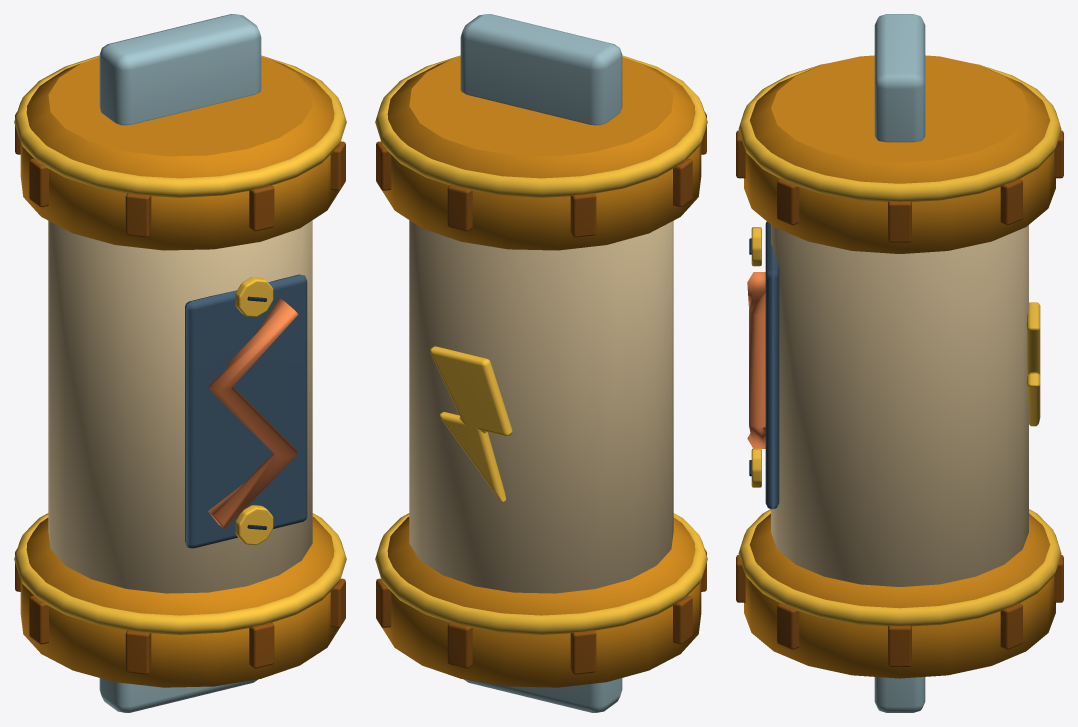
The model's file is core_fuse.glb.
The picture shows the model from 3 angles, left to right: view 1: azimuth 30°, elevation 25°; view 2: azimuth 150°, elevation 25°; view 3: azimuth 270°, elevation 25°; orthographic projection. The views are drawn at different scales.
Visible parts, largest first — view 1: core_fuse_runtime; view 2: core_fuse_runtime; view 3: core_fuse_runtime.
Boxes of the visible parts, box(x1,y1,x2,y2) form: core_fuse_runtime: box(14, 14, 346, 712); core_fuse_runtime: box(375, 14, 707, 712); core_fuse_runtime: box(736, 14, 1063, 712).
Bounding box in the file's own units: 0.6037 × 1.3 × 0.6037.
Materials: 1 (1 with a texture image).
